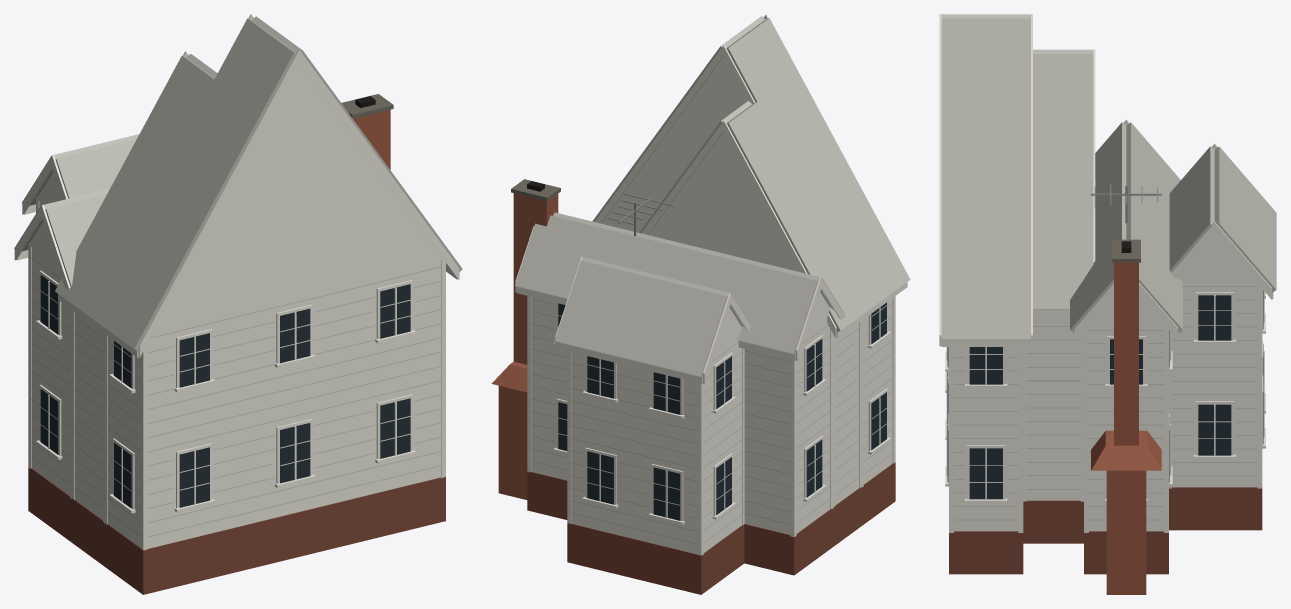
The model's file is frame-tudor-revival-house-0001.glb.
The picture shows the model from 3 angles, left to right: view 1: azimuth 30°, elevation 25°; view 2: azimuth 150°, elevation 25°; view 3: azimuth 270°, elevation 25°; orthographic projection. The views are drawn at different scales.
Visible parts, largest first — view 1: kit-frame-tudor-revival-house-0001; view 2: kit-frame-tudor-revival-house-0001; view 3: kit-frame-tudor-revival-house-0001.
Boxes of the visible parts, left/top/right/bottom form: kit-frame-tudor-revival-house-0001: left=14, top=14, right=462, bottom=594; kit-frame-tudor-revival-house-0001: left=491, top=14, right=910, bottom=594; kit-frame-tudor-revival-house-0001: left=939, top=14, right=1276, bottom=594.
Bounding box in the file's own units: 9.57 × 13 × 8.11.
